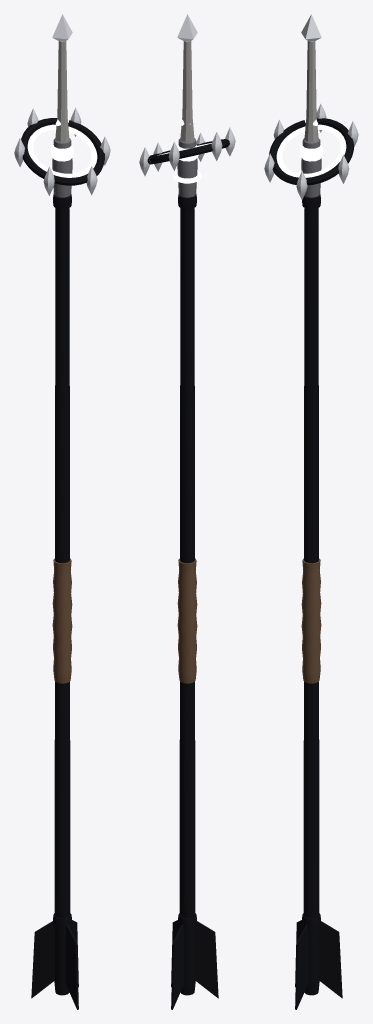
File: esc_w_ranger_javelin_7.glb
3 views of the same model, side by side, from view 1: azimuth 30°, elevation 25°; view 2: azimuth 210°, elevation 25°; view 3: azimuth 330°, elevation 25° (orthographic).
Visible parts, largest first — view 1: esc_w_ranger_javelin_7; view 2: esc_w_ranger_javelin_7; view 3: esc_w_ranger_javelin_7.
Boxes of the visible parts, bbox=[...] form: esc_w_ranger_javelin_7: bbox=[14, 14, 110, 1009]; esc_w_ranger_javelin_7: bbox=[139, 14, 235, 1009]; esc_w_ranger_javelin_7: bbox=[264, 14, 358, 1009].
Bounding box in the file's own units: 0.1472 × 1.64 × 0.1341.
